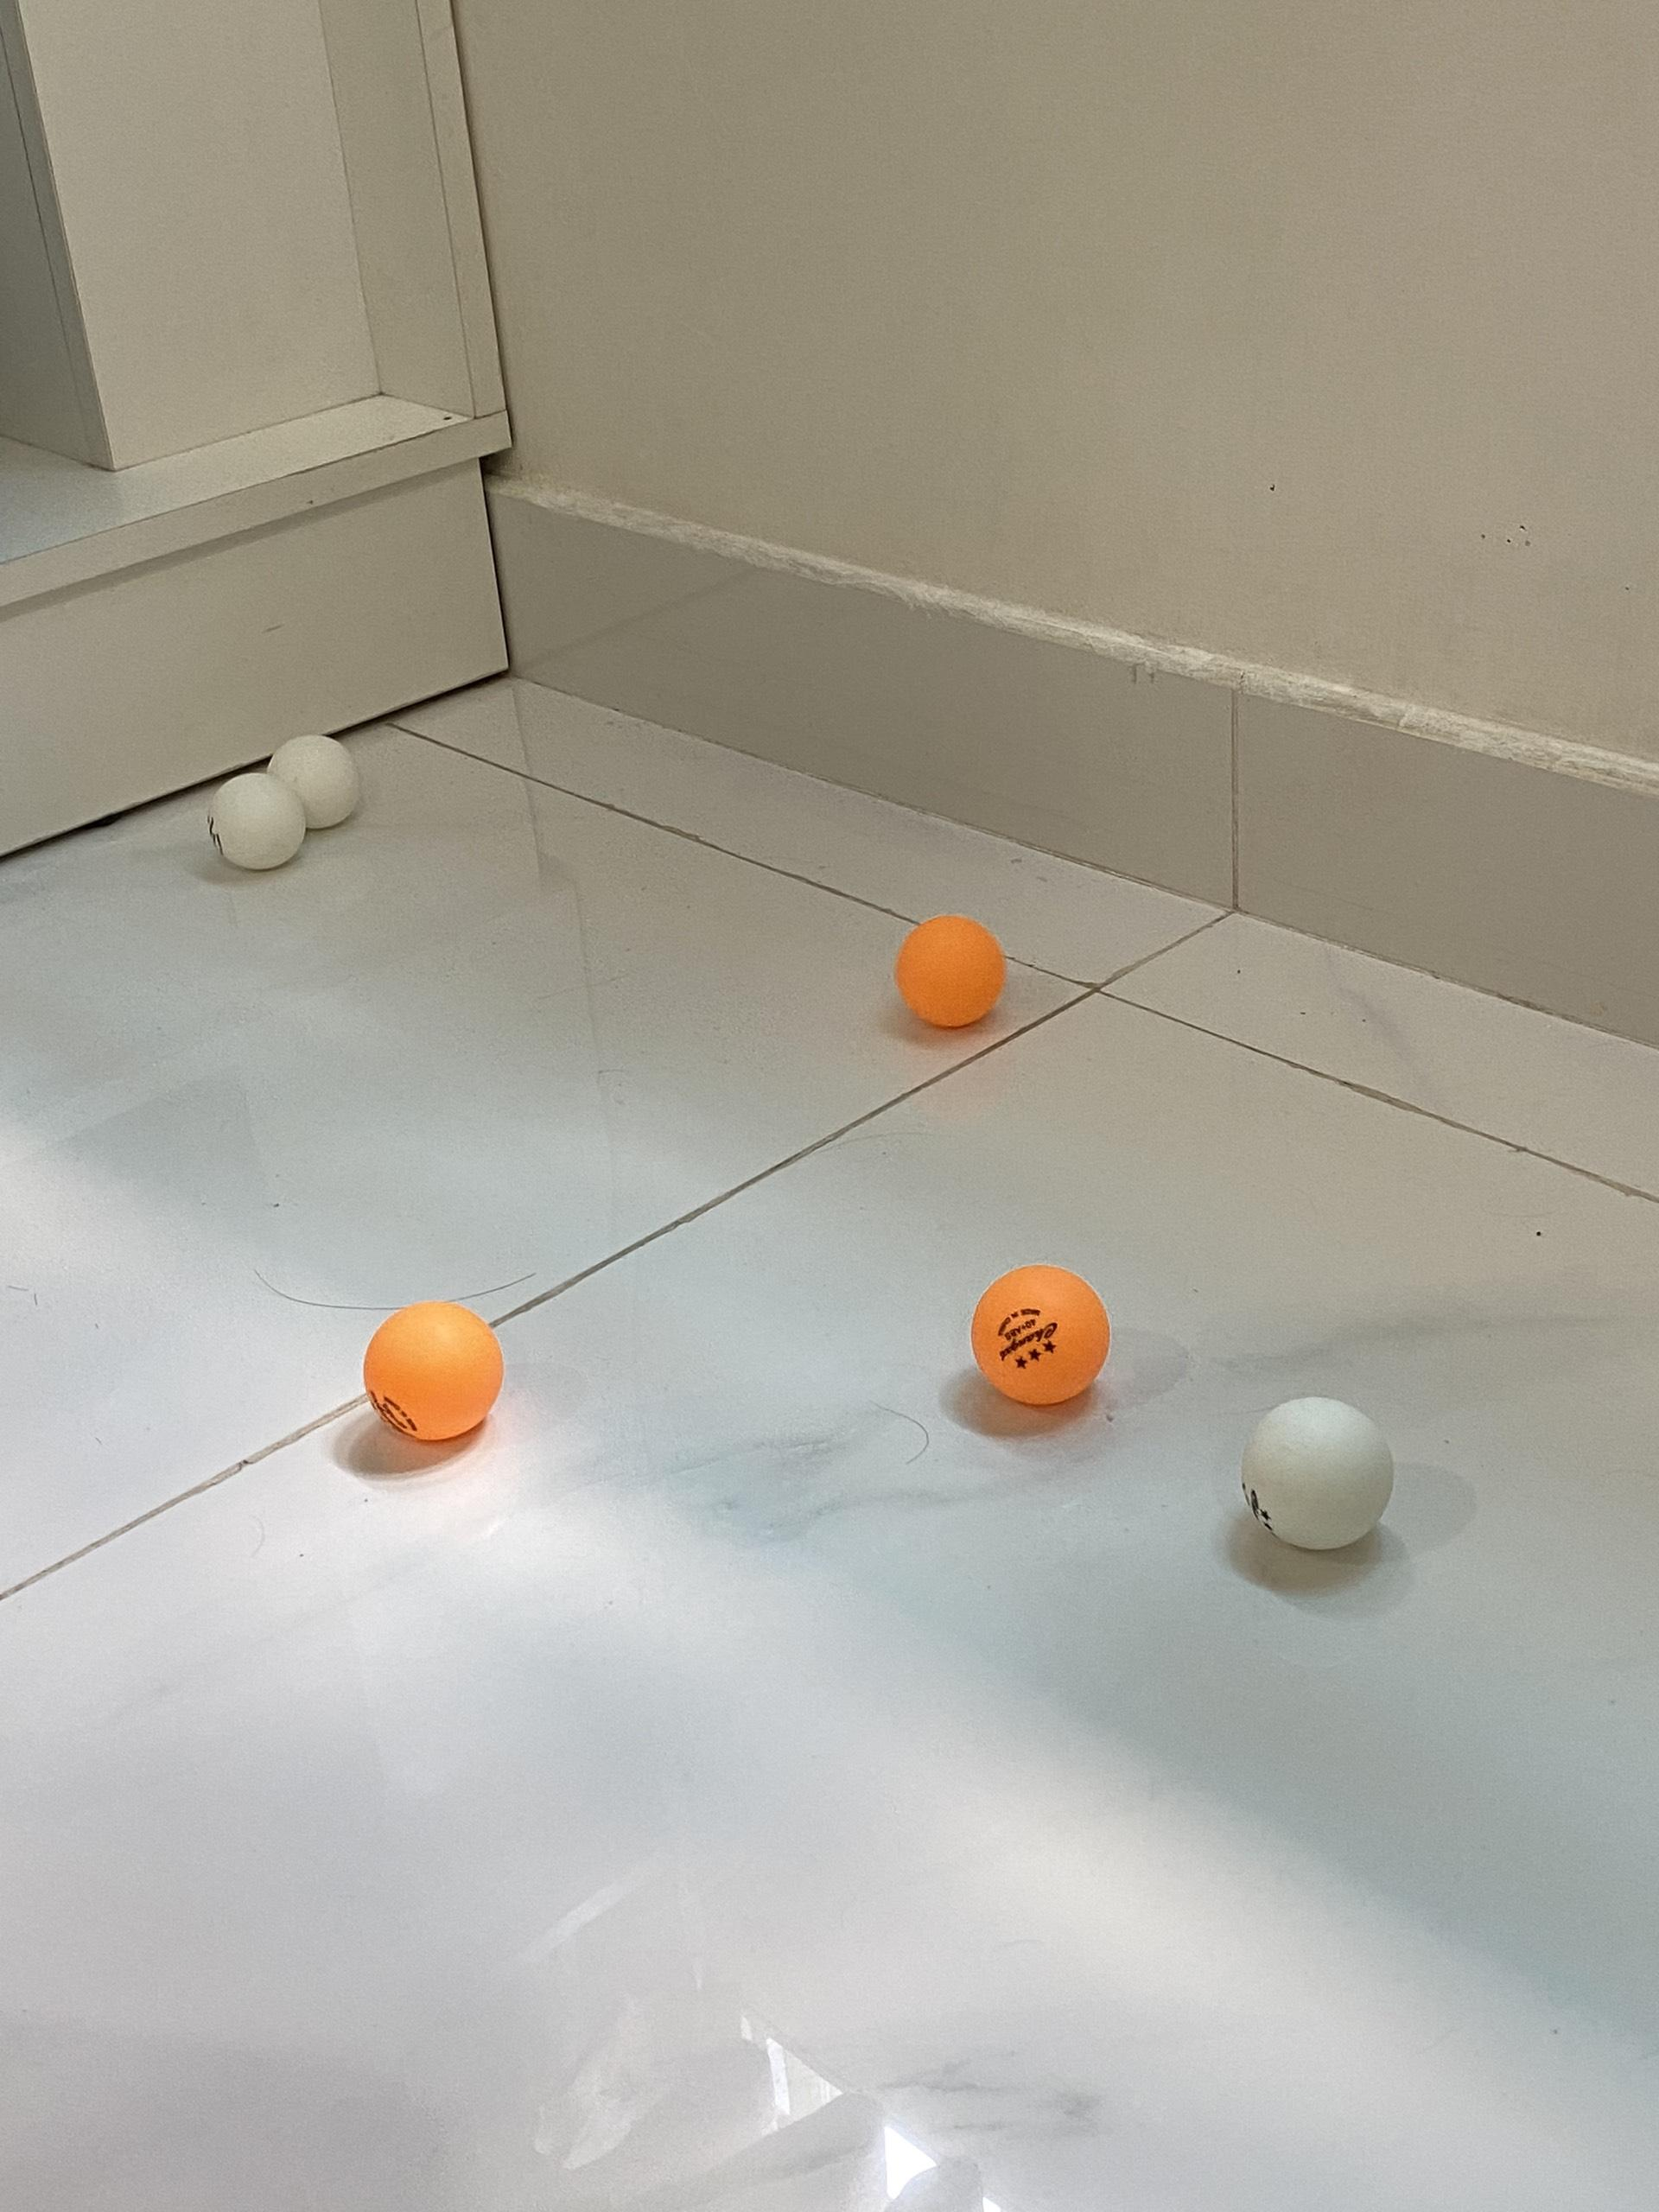oball: (366, 1299, 507, 1442), (974, 1261, 1108, 1409), (896, 913, 1011, 1028)
